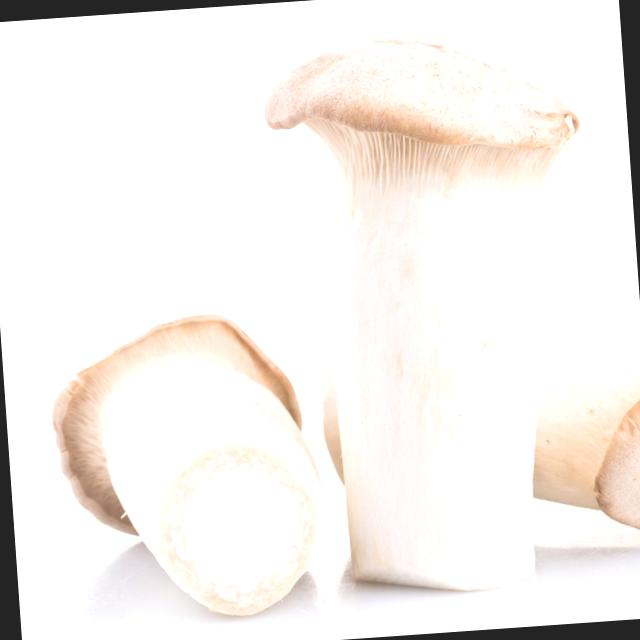Pleurotus eryngii: (262, 24, 610, 600), (42, 309, 329, 631)
